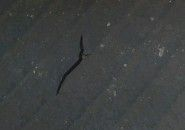cut: (54, 30, 86, 97)
